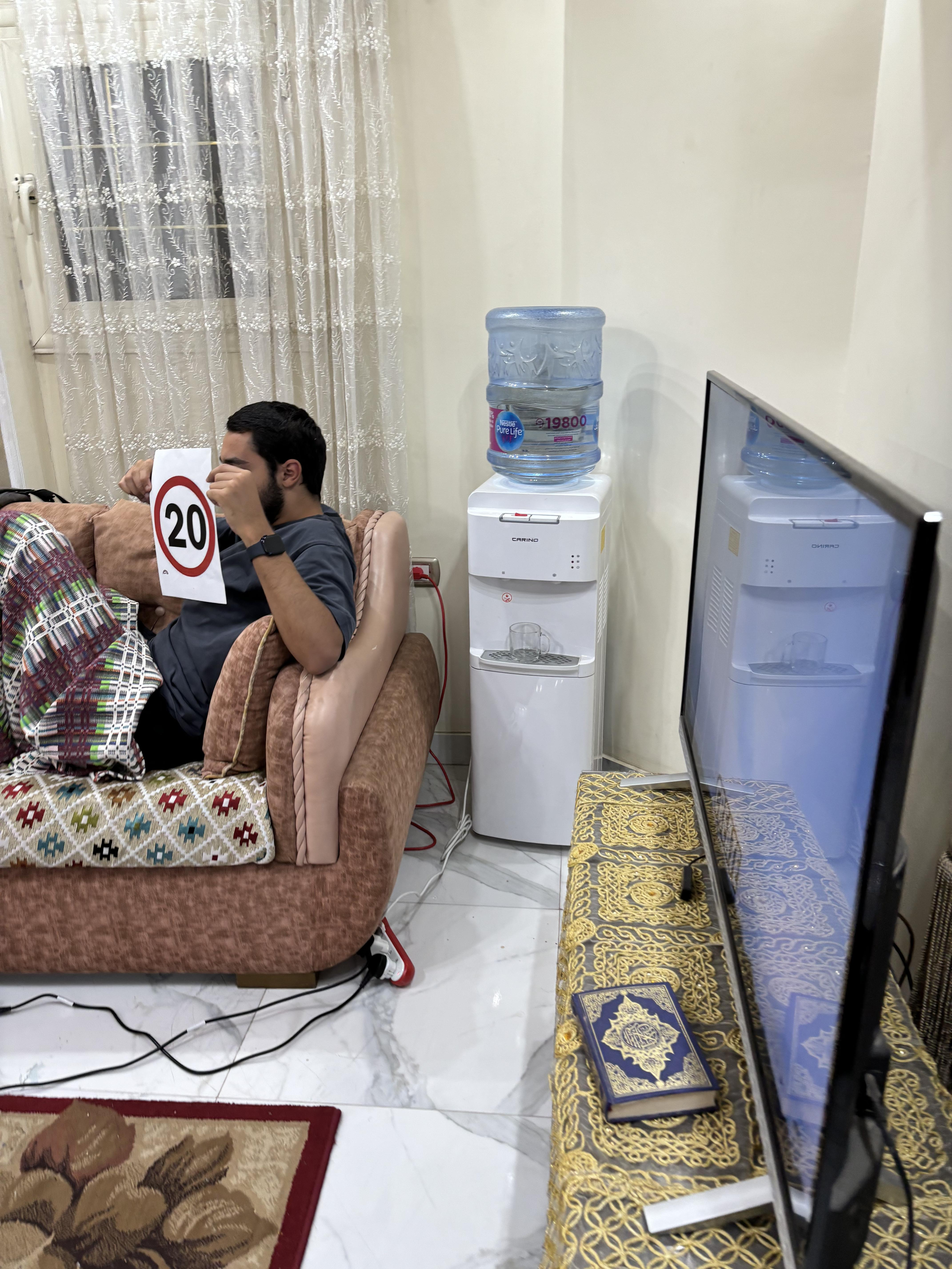20-Speed: (152, 467, 223, 579)
